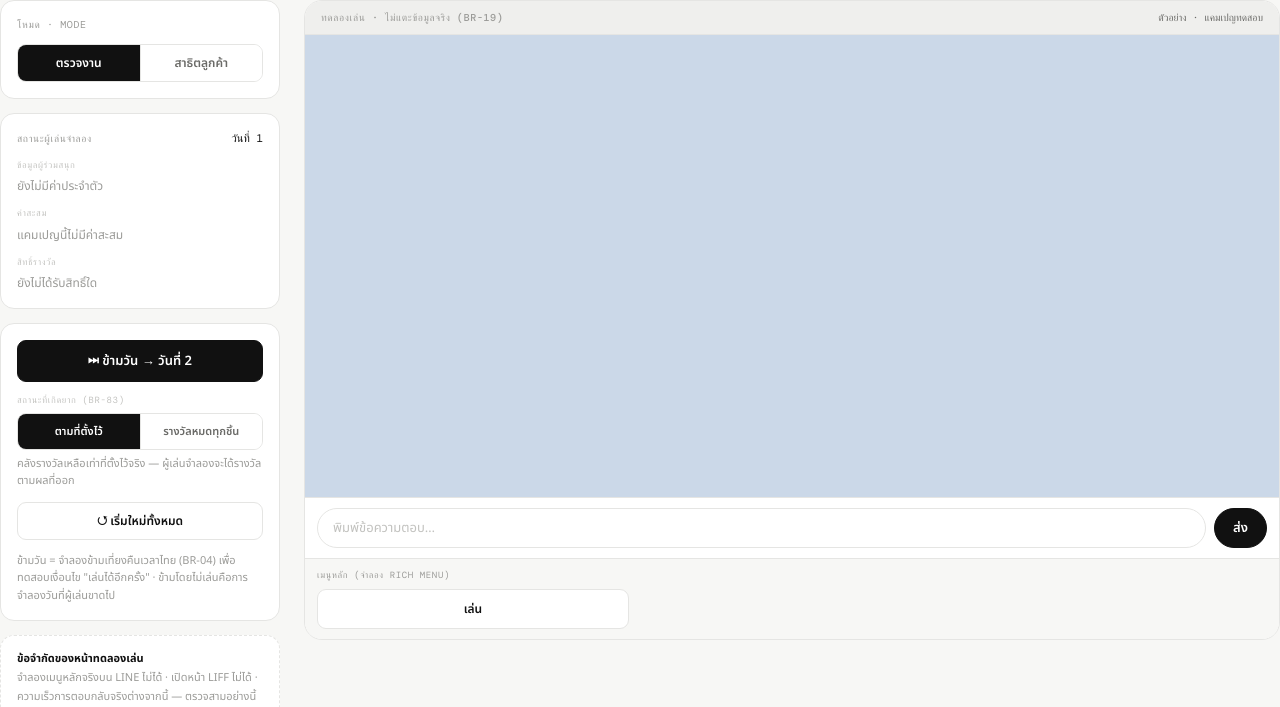
it: สวิตช์โหมด › โหมดสาธิตลูกค้าซ่อนปุ่มข้ามวันและปุ่มเริ่มใหม่
Click the button "สาธิตลูกค้า" at [201, 63], box [140,45,262,81]
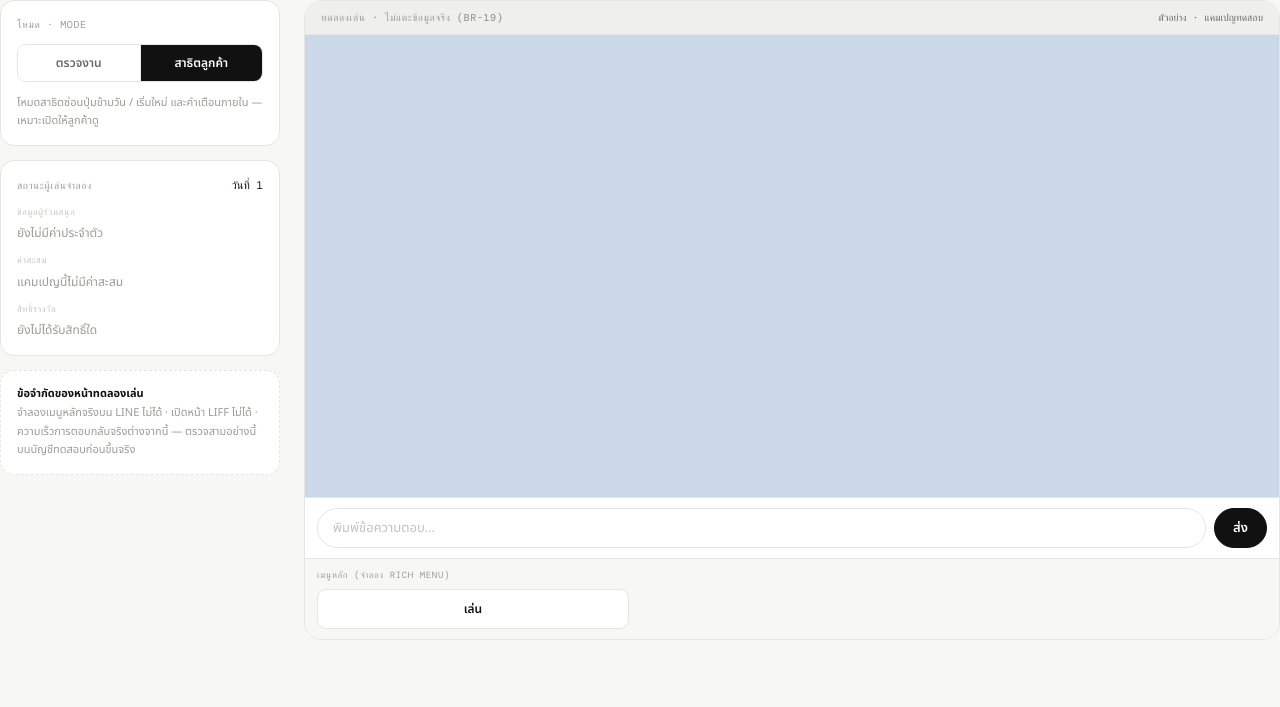
Expected: the button "↺ เริ่มใหม่ทั้งหมด" is gone
